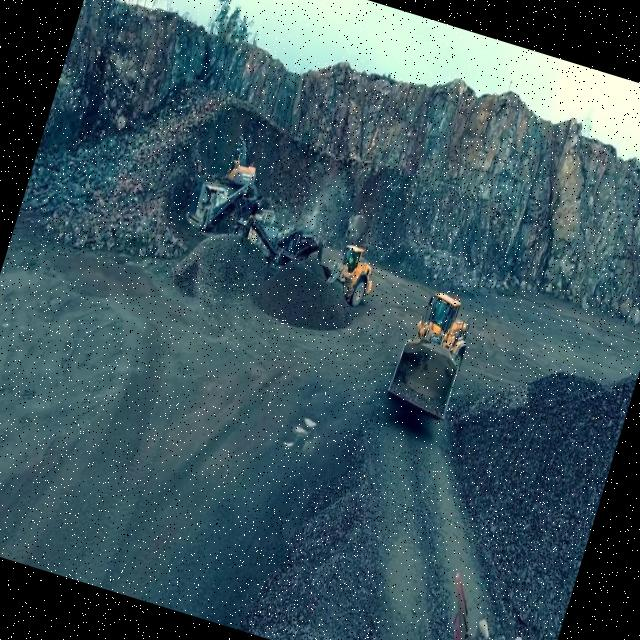Excavator: (221, 132, 266, 190)
Loader: (381, 276, 484, 424), (320, 236, 383, 308)
